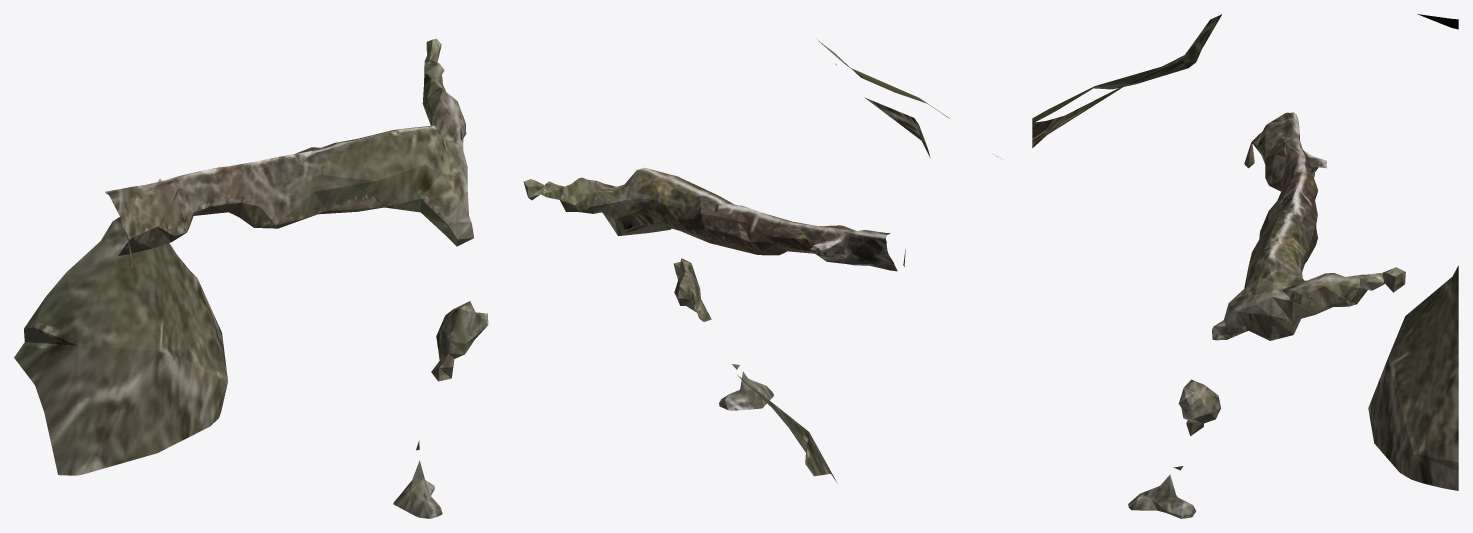
The picture shows the model from 3 angles, left to right: view 1: azimuth 30°, elevation 25°; view 2: azimuth 150°, elevation 25°; view 3: azimuth 270°, elevation 25°; orthographic projection. The views are drawn at different scales.
Size of the model in its own units: 2.85 by 2.95 by 2.95.
Materials: 2 (2 with a texture image).
